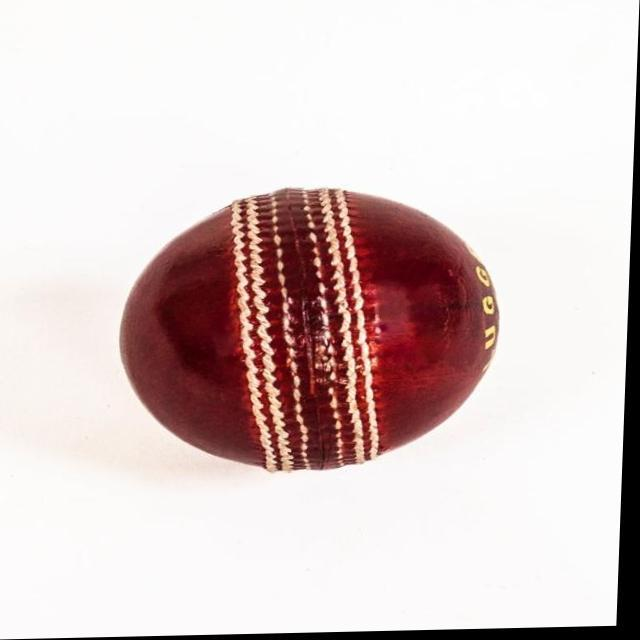cricket ball: (122, 188, 502, 474)
